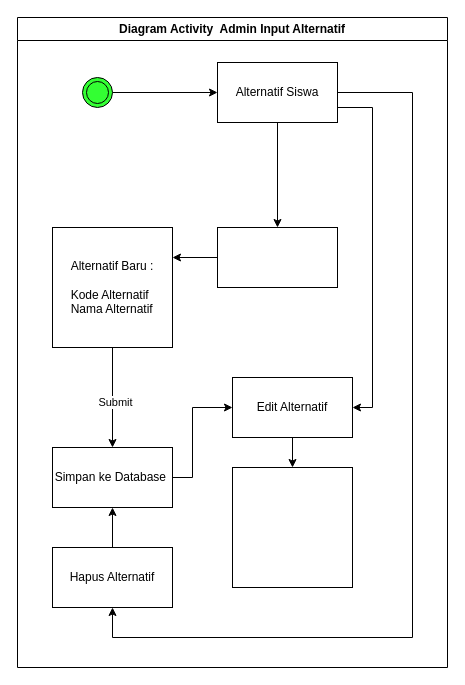
Image size: 465x685. Some labels were removed from this diagram. Each missing label, with the centre of its shape:
Alternatif Siswa : Kode Alternatif Nama Alternatif: pixel 292 527
START: pixel 97 92
Tambah Alternatif: pixel 277 257
